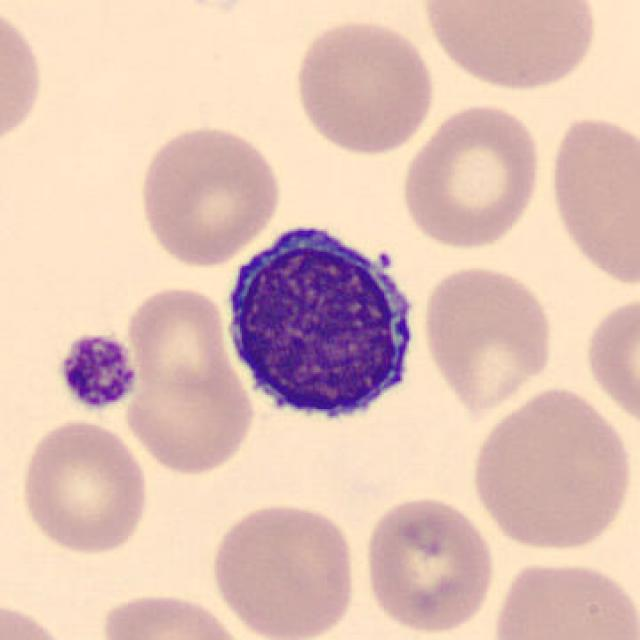Lymphocyte: (214, 210, 428, 435)
Platelets: (54, 328, 140, 414)
RBC: (466, 382, 636, 556), (119, 280, 256, 480), (396, 101, 546, 252), (133, 120, 284, 268), (206, 497, 361, 640), (290, 14, 439, 159), (418, 261, 558, 414), (359, 492, 498, 636), (16, 416, 153, 557), (542, 108, 638, 292), (416, 0, 601, 93), (488, 553, 638, 640), (579, 289, 640, 432), (96, 589, 251, 640), (0, 2, 48, 155), (0, 597, 76, 640)
